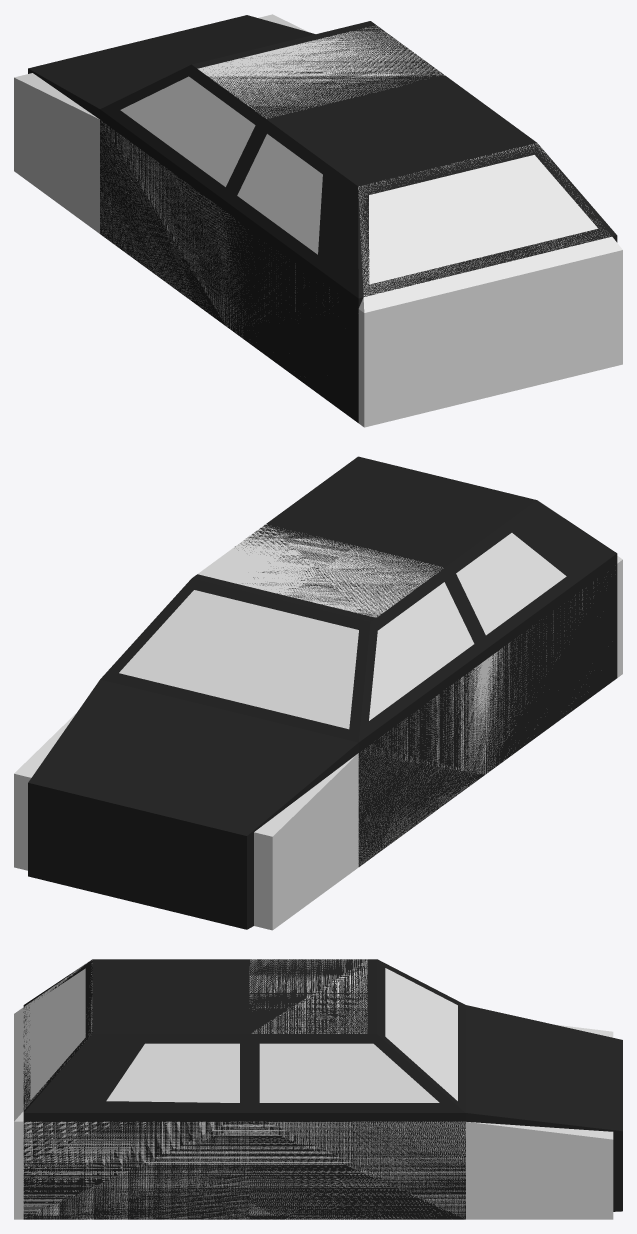
Rendered from hatchback.glb.
3 views of the same model, one above another, from view 1: azimuth 30°, elevation 25°; view 2: azimuth 150°, elevation 25°; view 3: azimuth 270°, elevation 25° (orthographic). The views are drawn at different scales.
Parts seen in each view (by area): view 1: vehicles/hatchback, COL_hull, window.04, window.02, window.05; view 2: vehicles/hatchback, COL_hull, window.00, window.02, window.05; view 3: vehicles/hatchback, COL_hull, window.01, window.03, window.00, window.04.
Part boxes in pixels (left/top/right/bottom): vehicles/hatchback: left=28, top=15, right=617, bottom=422; COL_hull: left=14, top=14, right=622, bottom=427; window.04: left=369, top=155, right=597, bottom=283; window.02: left=120, top=76, right=255, bottom=186; window.05: left=237, top=134, right=322, bottom=254; vehicles/hatchback: left=28, top=456, right=617, bottom=929; COL_hull: left=14, top=524, right=622, bottom=930; window.00: left=119, top=590, right=358, bottom=729; window.02: left=369, top=582, right=474, bottom=720; window.05: left=456, top=533, right=566, bottom=635; vehicles/hatchback: left=23, top=959, right=622, bottom=1219; COL_hull: left=14, top=959, right=613, bottom=1219; window.01: left=259, top=1043, right=439, bottom=1102; window.03: left=106, top=1043, right=239, bottom=1102; window.00: left=385, top=968, right=457, bottom=1100; window.04: left=31, top=968, right=85, bottom=1097.
Bounding box in the file's own units: 1.62 × 1.19 × 3.88.
2 materials, 2 textured.
